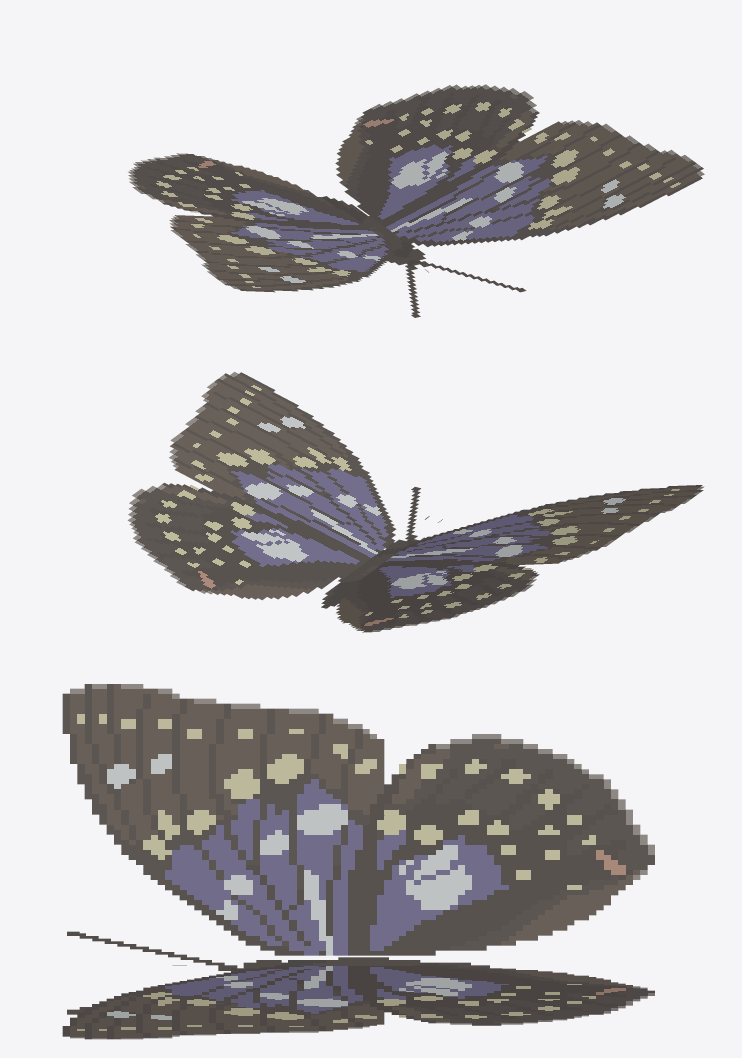
Rendered from 0404_Purple_Butterfly.glb.
The picture shows the model from 3 angles, top to bottom: view 1: azimuth 30°, elevation 25°; view 2: azimuth 150°, elevation 25°; view 3: azimuth 270°, elevation 25°; orthographic projection. The views are drawn at different scales.
Parts seen in each view (by area): view 1: part_0; view 2: part_0; view 3: part_0.
Boxes of the visible parts, x1=… form: part_0: x1=128, y1=84, x2=704, y2=317; part_0: x1=127, y1=372, x2=704, y2=632; part_0: x1=62, y1=684, x2=654, y2=1039.
Bounding box in the file's own units: 0.0778 × 0.0125 × 0.0659.
1 material, 1 textured.
